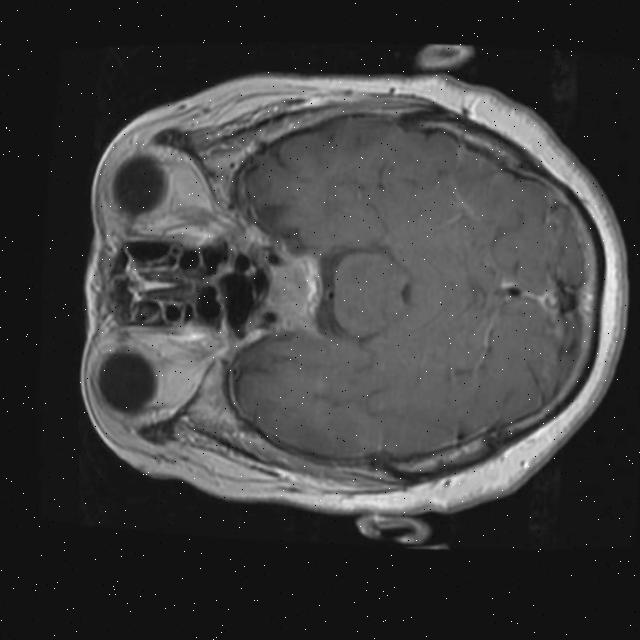Pituitary: (261, 250, 322, 330)
